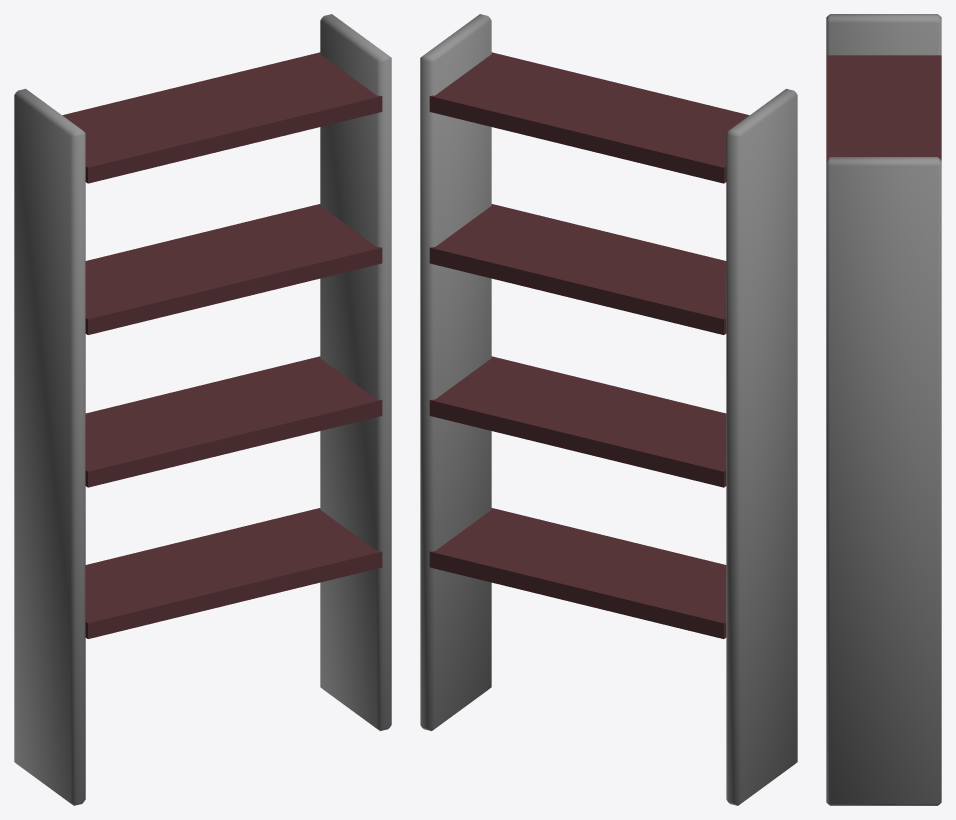
File: props_etagere_de_garage.fbx
The picture shows the model from 3 angles, left to right: view 1: azimuth 30°, elevation 25°; view 2: azimuth 150°, elevation 25°; view 3: azimuth 270°, elevation 25°; orthographic projection. The views are drawn at different scales.
Visible parts, largest first — view 1: Cube.006; view 2: Cube.006; view 3: Cube.006.
Part boxes in pixels (left/top/right/bottom): Cube.006: left=14, top=14, right=391, bottom=805; Cube.006: left=420, top=14, right=797, bottom=805; Cube.006: left=826, top=14, right=941, bottom=805.
Size of the model in its own units: 267 by 536 by 86.95.
